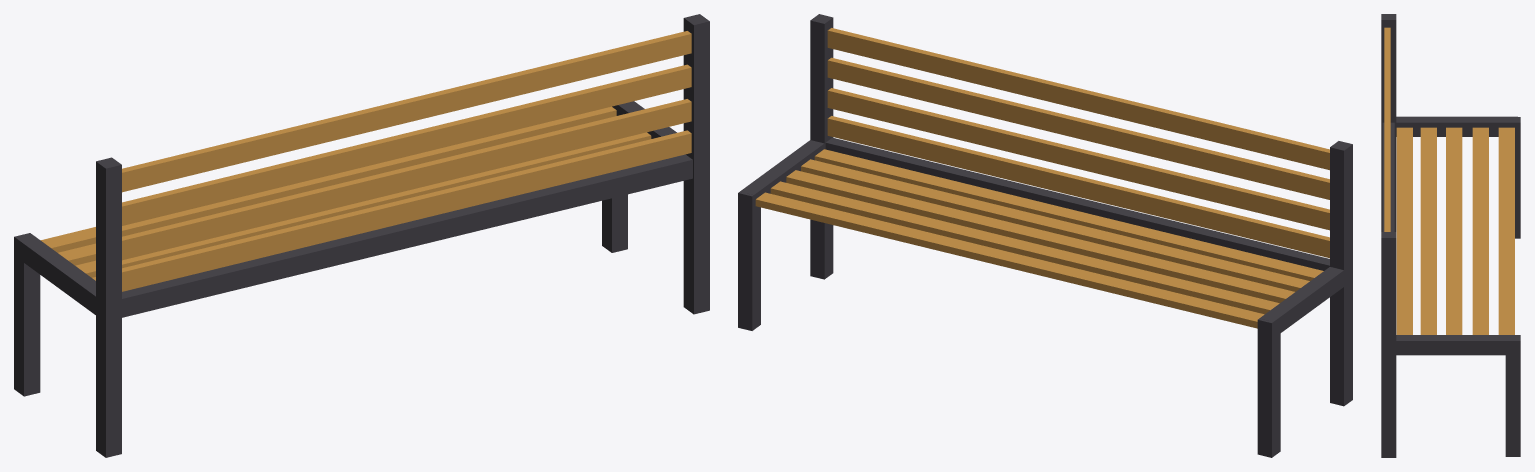
The picture shows the model from 3 angles, left to right: view 1: azimuth 30°, elevation 25°; view 2: azimuth 150°, elevation 25°; view 3: azimuth 270°, elevation 25°; orthographic projection. The views are drawn at different scales.
Parts seen in each view (by area): view 1: Bench; view 2: Bench; view 3: Bench.
Boxes of the visible parts, x1=… form: Bench: x1=14, y1=14, x2=709, y2=457; Bench: x1=738, y1=14, x2=1352, y2=457; Bench: x1=1381, y1=14, x2=1520, y2=457.
Size of the model in its own units: 200 by 52.63 by 91.49.
